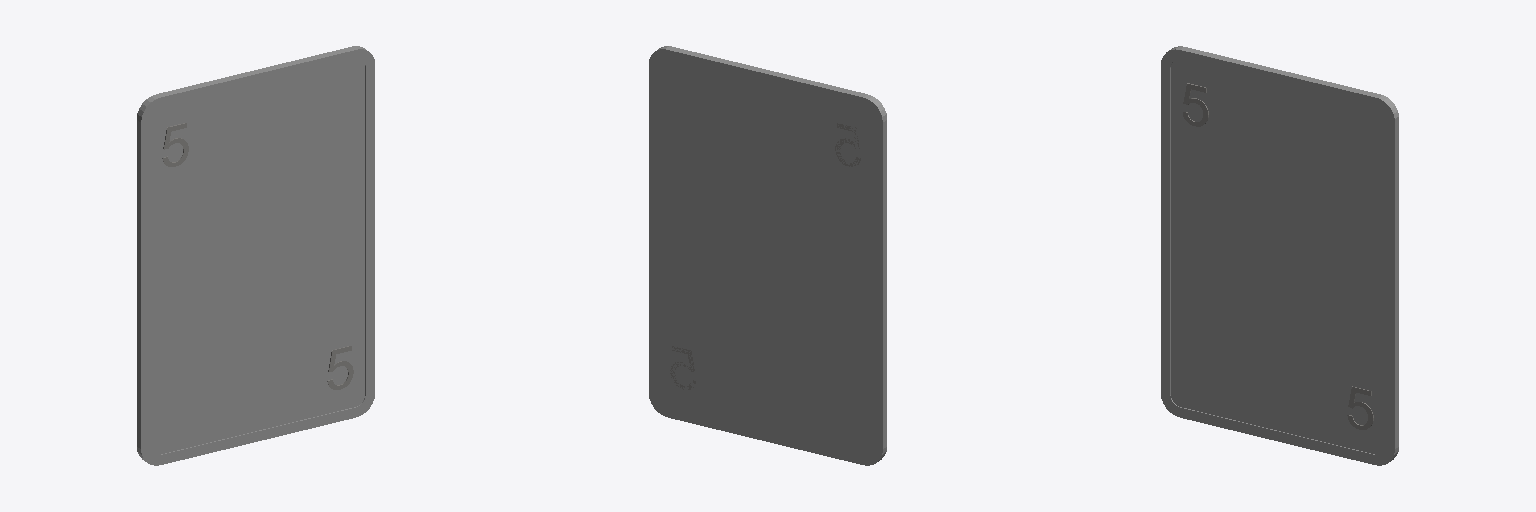
File: Card.obj
The picture shows the model from 3 angles: view 1: azimuth 30°, elevation 25°; view 2: azimuth 150°, elevation 25°; view 3: azimuth 330°, elevation 25°; orthographic projection.
Parts seen in each view (by area): view 1: Body5, Body4; view 2: Body5, Body4; view 3: Body5, Body4.
Part boxes in pixels (x1,y1,x2,y2): Body5: (151,60,364,454); Body4: (137,46,374,465); Body5: (658,60,872,454); Body4: (649,46,886,465); Body5: (1171,60,1384,454); Body4: (1161,46,1398,465).
Bounding box in the file's own units: 6 × 9 × 0.2.